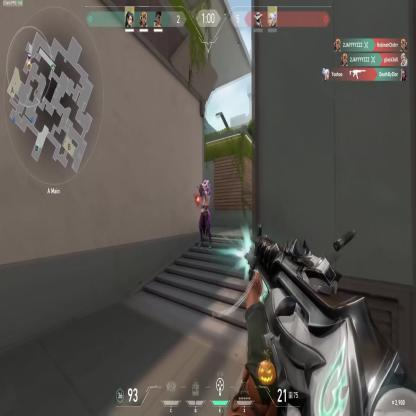enemy: (198, 178, 212, 250)
enemy_head: (203, 180, 208, 190)
